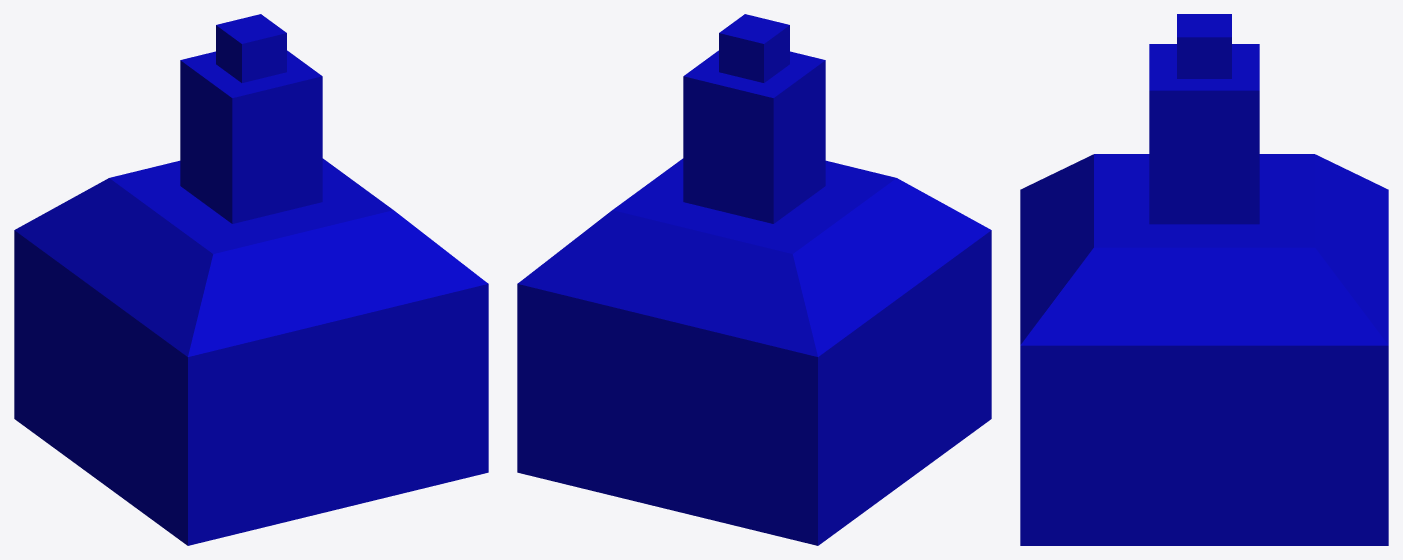
Rendered from Tank.dae.
The picture shows the model from 3 angles, left to right: view 1: azimuth 30°, elevation 25°; view 2: azimuth 150°, elevation 25°; view 3: azimuth 270°, elevation 25°; orthographic projection. The views are drawn at different scales.
Parts seen in each view (by area): view 1: SketchUp (×3); view 2: SketchUp (×3); view 3: SketchUp (×3).
Part boxes in pixels (x1,y1,x2,y2): SketchUp (×3): (14, 14, 488, 545); SketchUp (×3): (517, 14, 991, 545); SketchUp (×3): (1020, 14, 1388, 545).
Bounding box in the file's own units: 120 × 120 × 159.
